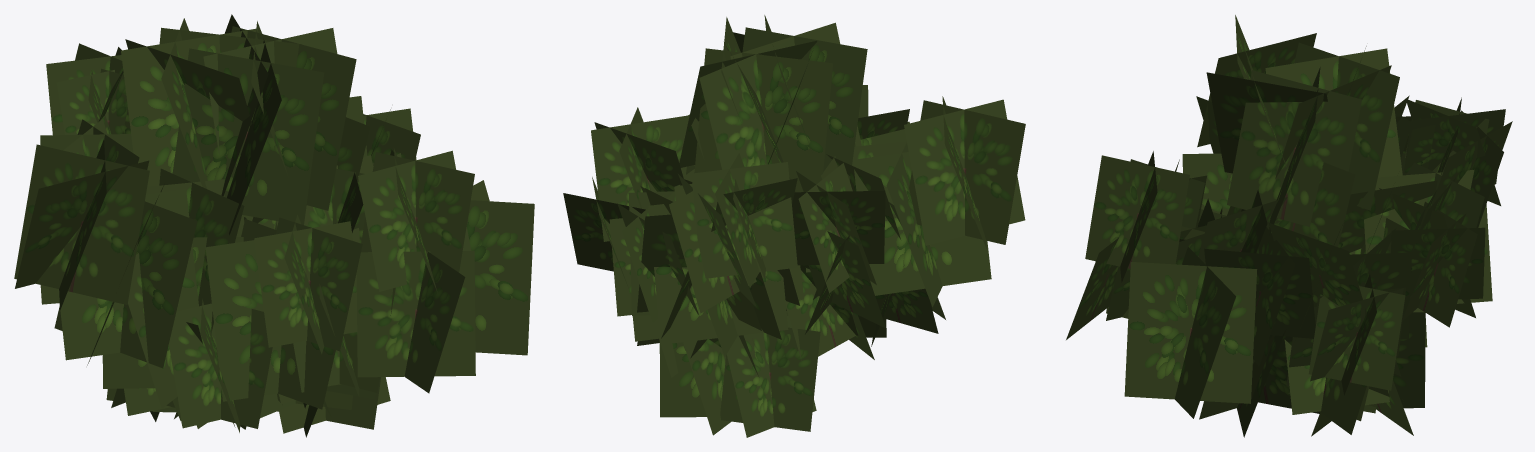
The model's file is SM_Art_Veg_Broadleaf_0_Leaves.gltf.
3 renders of one model, left to right at view 1: azimuth 30°, elevation 25°; view 2: azimuth 150°, elevation 25°; view 3: azimuth 270°, elevation 25°, orthographic. The views are drawn at different scales.
Visible parts, largest first — view 1: SM_Art_Veg_Broadleaf_0_Leaves; view 2: SM_Art_Veg_Broadleaf_0_Leaves; view 3: SM_Art_Veg_Broadleaf_0_Leaves.
Boxes of the visible parts, x1,y1,x2,y2 form: SM_Art_Veg_Broadleaf_0_Leaves: (14, 14, 534, 437); SM_Art_Veg_Broadleaf_0_Leaves: (563, 15, 1025, 437); SM_Art_Veg_Broadleaf_0_Leaves: (1066, 15, 1512, 437).
Size of the model in its own units: 8.32 by 6.37 by 8.16.
Materials: 1 (1 with a texture image).
